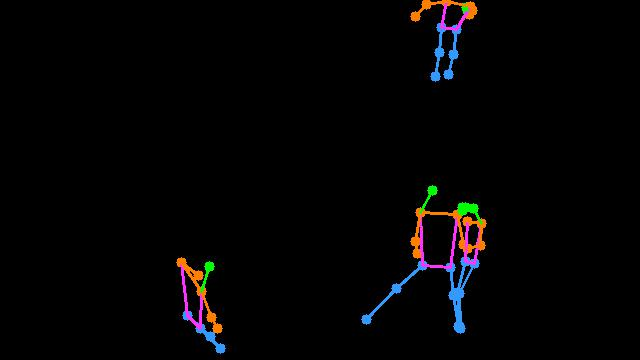normal: (396, 1, 484, 84)
